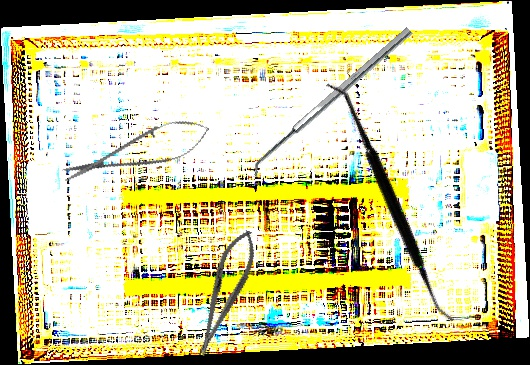Micro Scissor: (57, 110, 216, 194)
Needle Holder: (184, 224, 265, 362)
Spatula Surgical: (254, 80, 526, 325), (246, 27, 419, 179)
